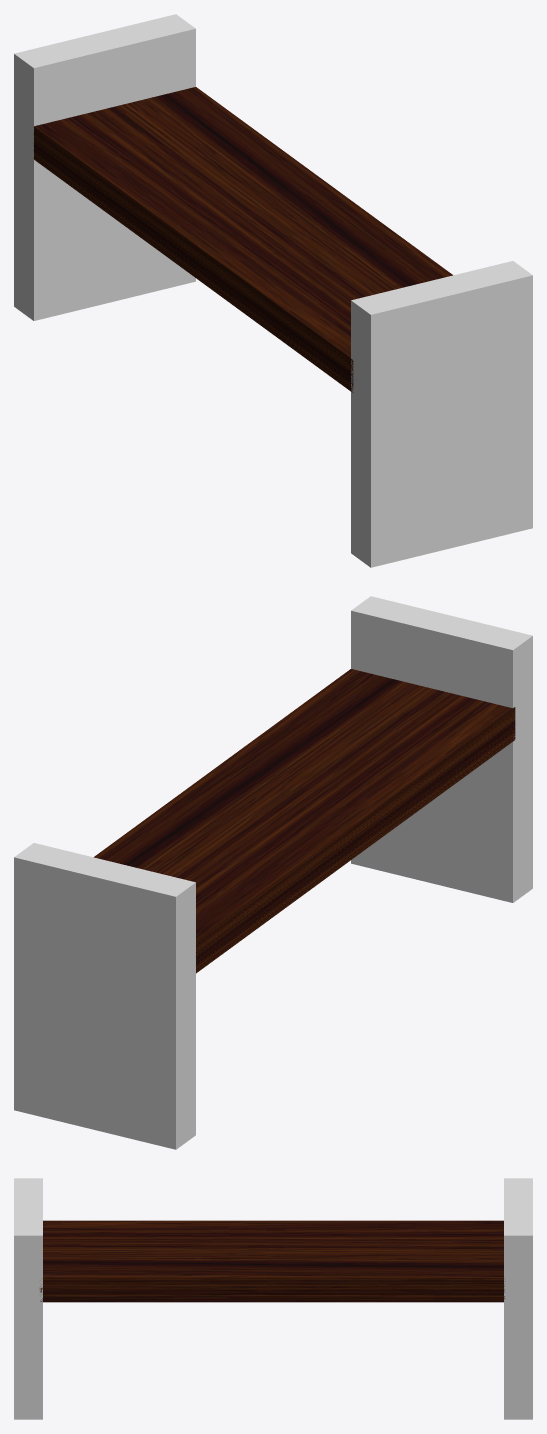
File: Banco Neon White.fbx
3 views of the same model, one above another, from view 1: azimuth 30°, elevation 25°; view 2: azimuth 150°, elevation 25°; view 3: azimuth 270°, elevation 25° (orthographic). The views are drawn at different scales.
Visible parts, largest first — view 1: Cube.002, Cube, Cube.001; view 2: Cube.002, Cube.001, Cube; view 3: Cube.002, Cube, Cube.001.
Boxes of the visible parts, x1,y1,x2,y2 form: Cube.002: (33,87,452,392); Cube: (351,261,532,567); Cube.001: (14,14,195,320); Cube.002: (94,669,515,973); Cube.001: (14,843,195,1149); Cube: (351,596,532,902); Cube.002: (39,1220,504,1302); Cube: (14,1178,42,1419); Cube.001: (504,1178,532,1419).
Bounding box in the file's own units: 134 × 200 × 511.
